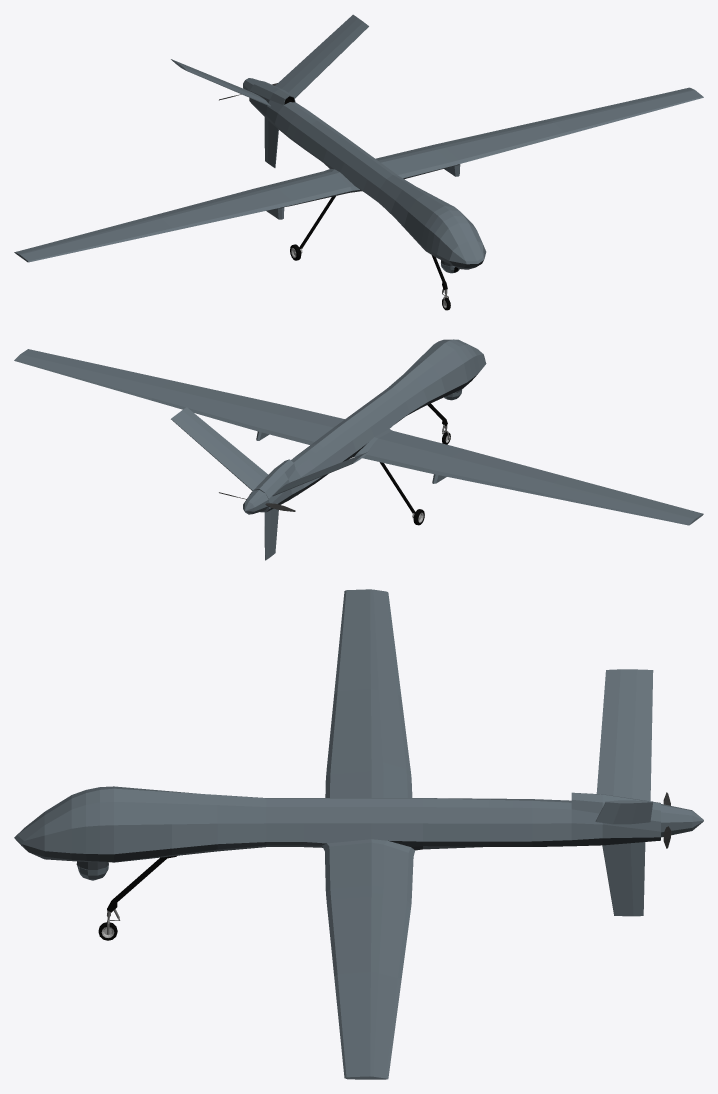
The picture shows the model from 3 angles, top to bottom: view 1: azimuth 30°, elevation 25°; view 2: azimuth 150°, elevation 25°; view 3: azimuth 270°, elevation 25°; orthographic projection. The views are drawn at different scales.
Visible parts, largest first — view 1: Circle, Circle.002, Circle.006; view 2: Circle, Circle.003, Circle.007, Circle.002, Circle.006, Circle.001, Landing gear_RL.001; view 3: Circle, Circle.006, Circle.007, Circle.002, Circle.003, Circle.001, Landing gear_F.
Part boxes in pixels (box(x1,y1,x2,y2)): Circle: box(17, 14, 703, 273); Circle.002: box(14, 215, 157, 254); Circle.006: box(545, 87, 693, 121); Circle: box(19, 339, 703, 560); Circle.003: box(438, 461, 550, 495); Circle.007: box(151, 390, 258, 428); Circle.002: box(543, 486, 693, 525); Circle.006: box(14, 355, 158, 400); Circle.001: box(219, 490, 295, 514); Landing gear_RL.001: box(379, 462, 424, 525); Circle: box(14, 589, 660, 1079); Circle.006: box(373, 973, 401, 1079); Circle.007: box(379, 898, 410, 979); Circle.002: box(373, 589, 401, 696); Circle.003: box(379, 690, 410, 771); Circle.001: box(661, 792, 703, 848); Landing gear_F: box(98, 855, 177, 940).
Bounding box in the file's own units: 1428 × 281 × 855.
